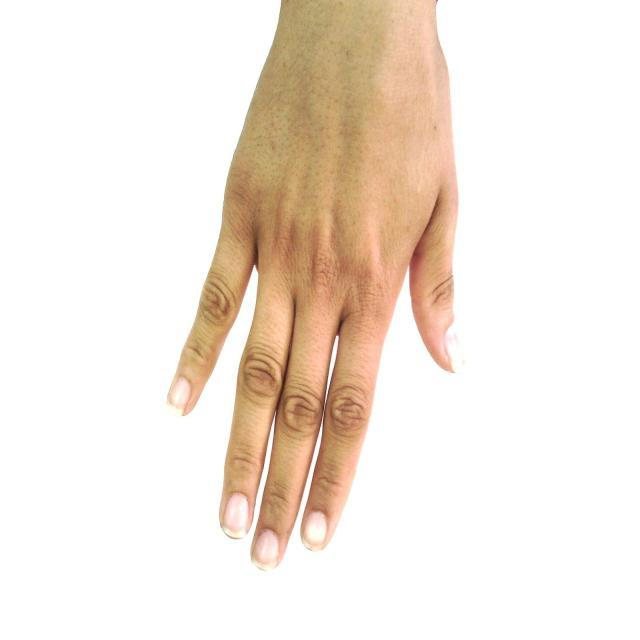Fingernail: (223, 494, 249, 537), (254, 531, 278, 569), (303, 511, 326, 549), (446, 327, 463, 370), (169, 378, 189, 411)
